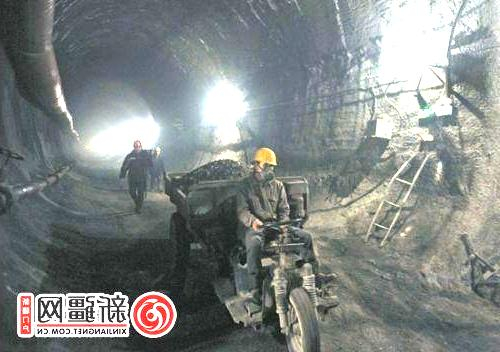helmet: (250, 147, 278, 180), (133, 140, 142, 153), (154, 146, 161, 157)
